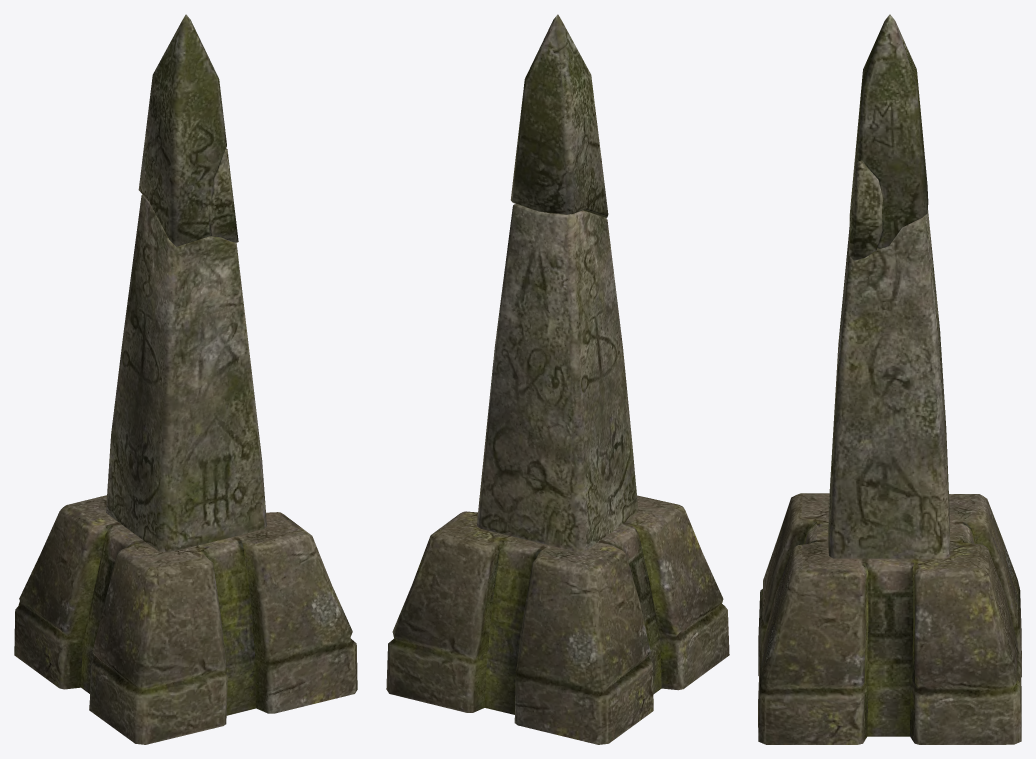
File: Temple_Obelisk-transformed.glb
3 views of the same model, side by side, from view 1: azimuth 30°, elevation 25°; view 2: azimuth 150°, elevation 25°; view 3: azimuth 270°, elevation 25° (orthographic). The views are drawn at different scales.
Parts seen in each view (by area): view 1: default; view 2: default; view 3: default.
Part boxes in pixels (x1=…): default: x1=14, y1=14, x2=357, y2=744; default: x1=386, y1=14, x2=729, y2=744; default: x1=758, y1=14, x2=1021, y2=744.
Size of the model in its own units: 1.77 by 5.02 by 1.78.
Materials: 1 (1 with a texture image).
